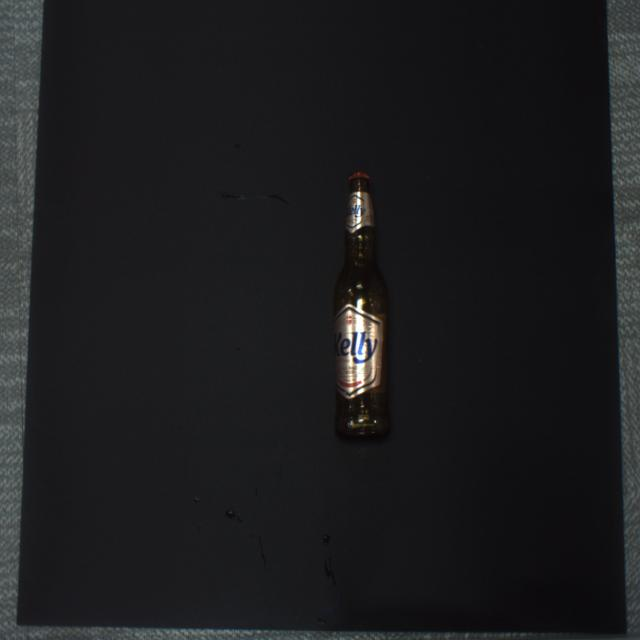beer-bottle: (333, 171, 390, 438)
